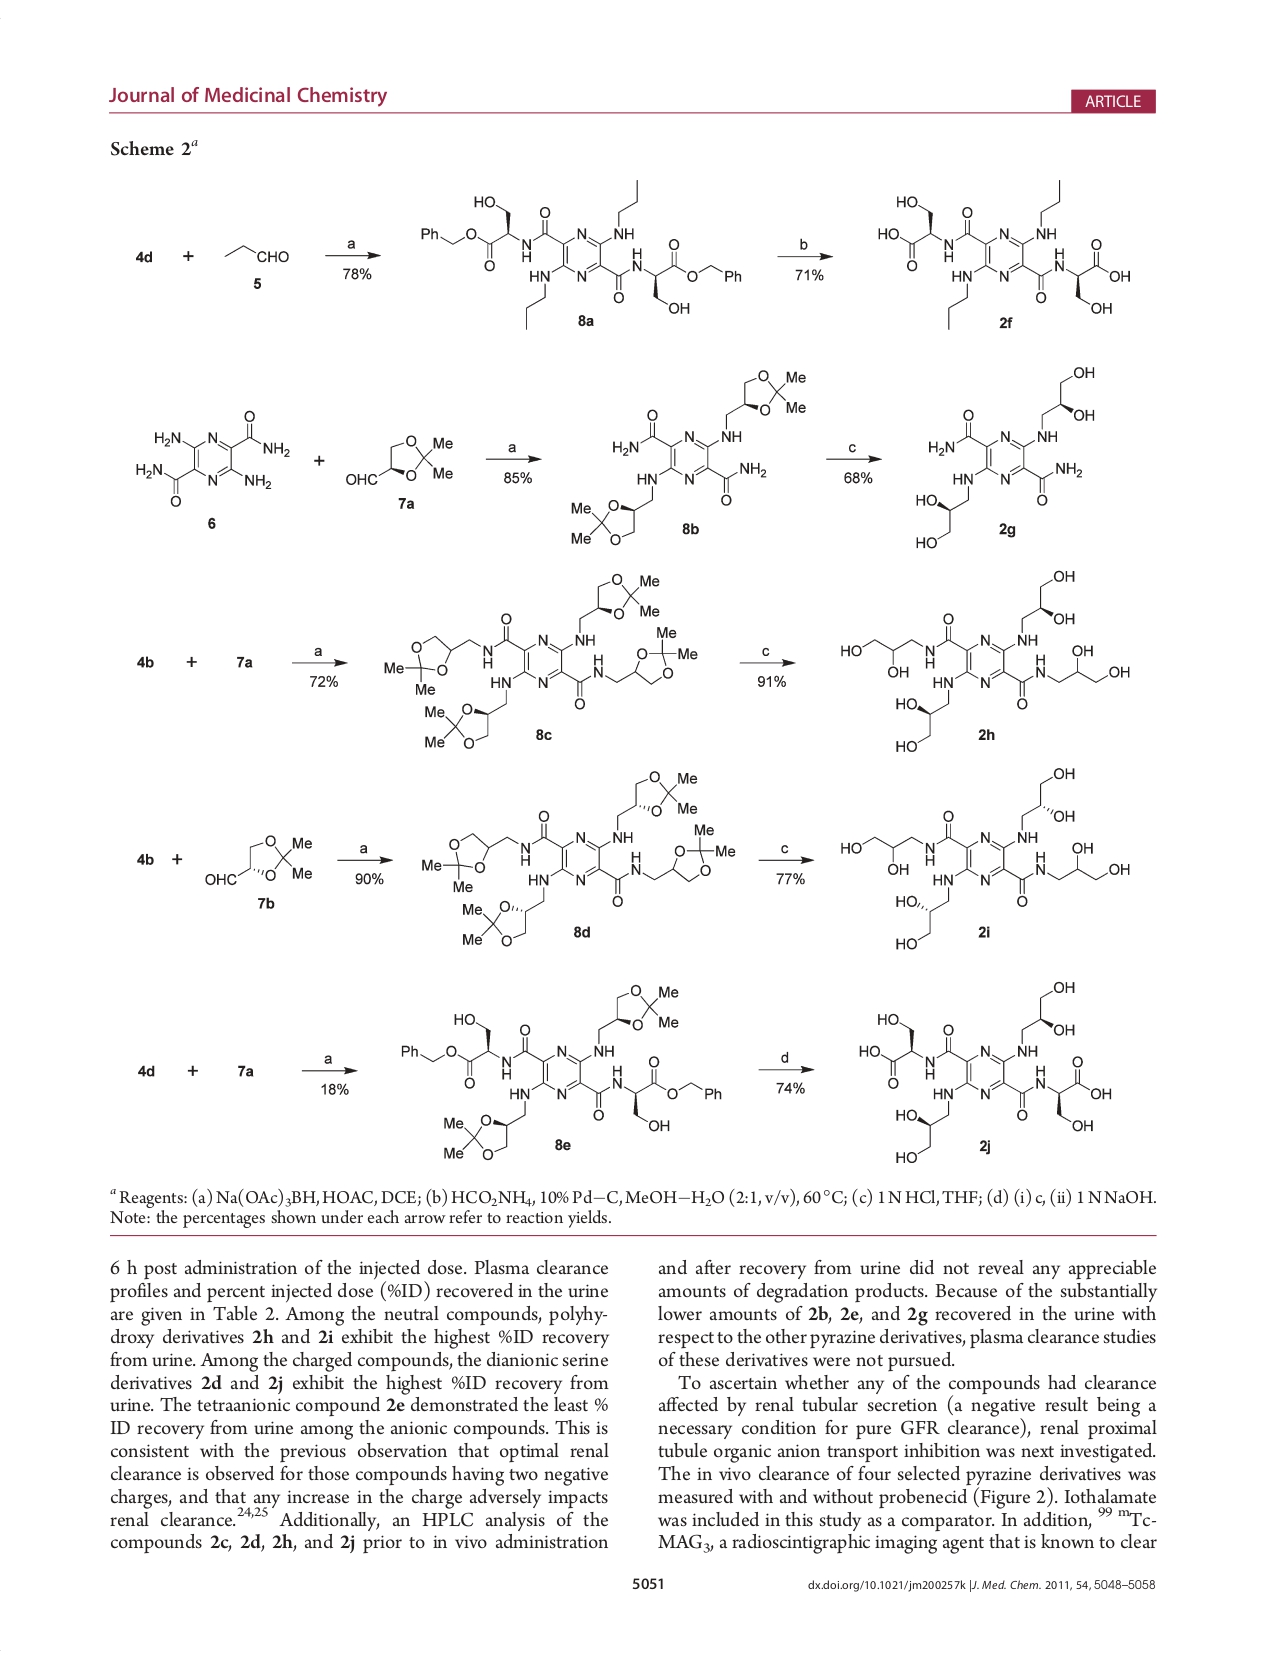exist_molecular: (398, 980, 726, 1162), (419, 767, 739, 950), (382, 569, 702, 749), (836, 763, 1134, 954), (838, 569, 1133, 754), (418, 177, 746, 330), (852, 977, 1114, 1166), (569, 367, 810, 549), (874, 177, 1133, 330), (914, 363, 1097, 551), (133, 407, 290, 509), (202, 830, 316, 890), (342, 434, 459, 489), (218, 233, 293, 270)
